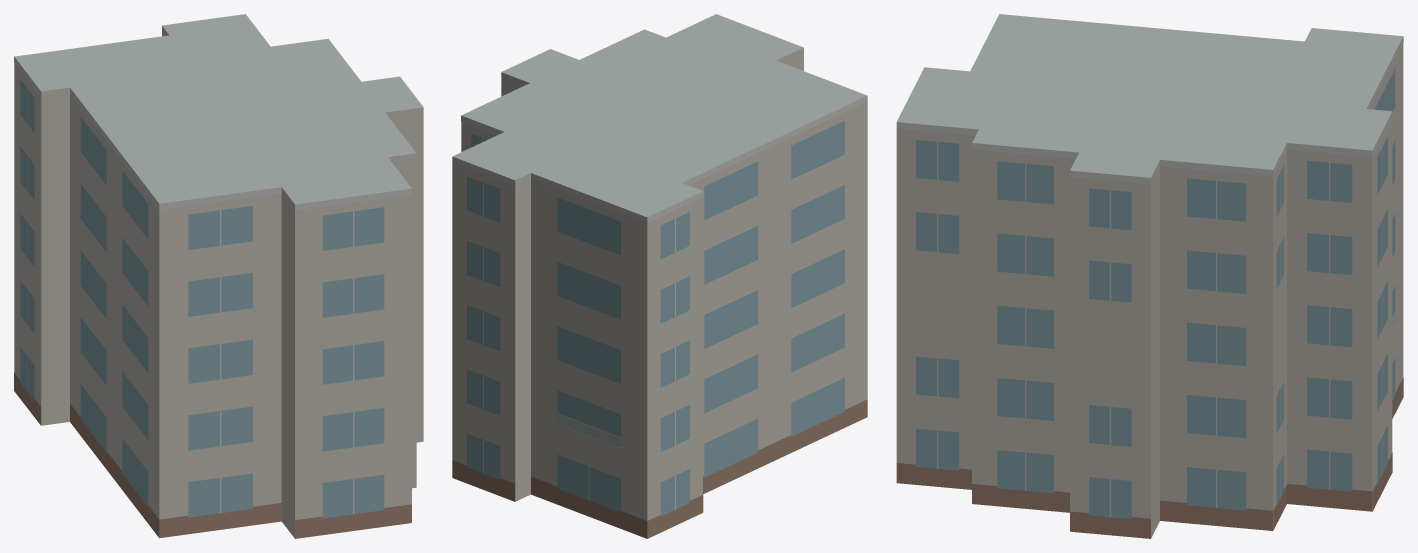
File: survey-upis-33009192.glb
3 views of the same model, side by side, from view 1: azimuth 30°, elevation 25°; view 2: azimuth 150°, elevation 25°; view 3: azimuth 270°, elevation 25° (orthographic). The views are drawn at different scales.
Visible parts, largest first — view 1: survey-upis-33009192.tmp; view 2: survey-upis-33009192.tmp; view 3: survey-upis-33009192.tmp.
Part boxes in pixels (left/top/right/bottom): survey-upis-33009192.tmp: left=14, top=14, right=423, bottom=538; survey-upis-33009192.tmp: left=452, top=14, right=867, bottom=538; survey-upis-33009192.tmp: left=896, top=14, right=1403, bottom=538.
Bounding box in the file's own units: 13.15 × 13.5 × 17.19.
